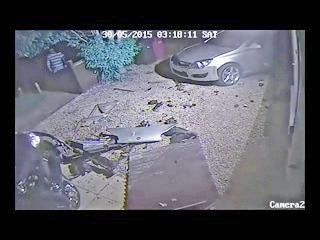Car: (160, 30, 291, 92)
Major Accident: (16, 102, 216, 217)
Motor: (20, 125, 82, 215)
